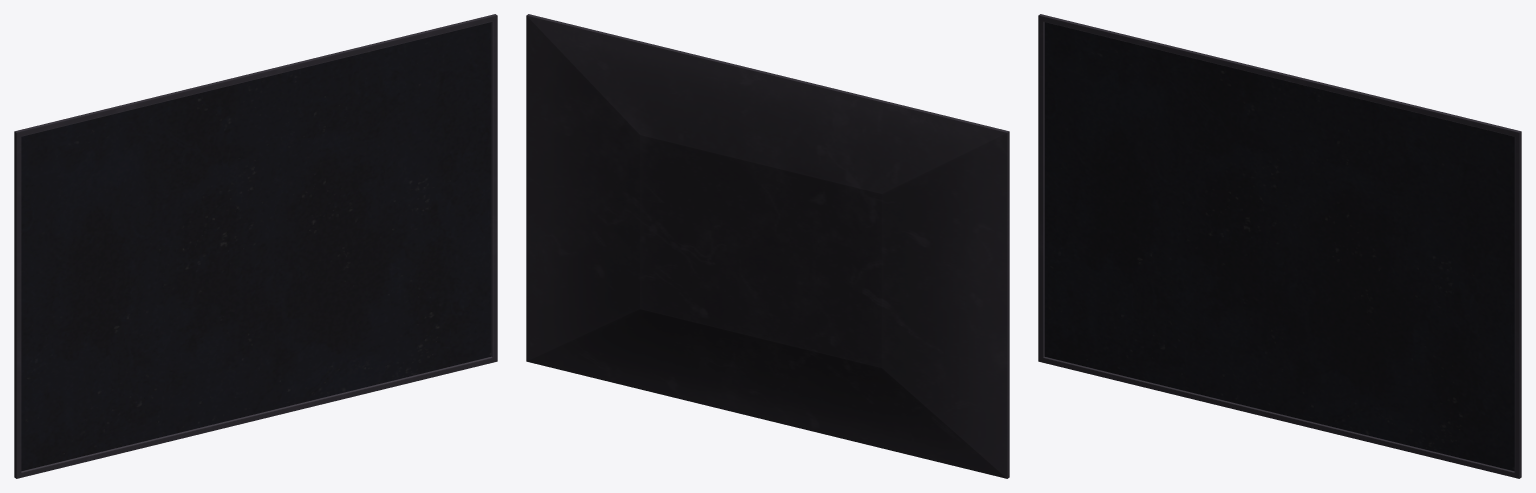
Rendered from Screen.fbx.
3 views of the same model, side by side, from view 1: azimuth 30°, elevation 25°; view 2: azimuth 150°, elevation 25°; view 3: azimuth 330°, elevation 25° (orthographic).
Visible parts, largest first — view 1: screen, body; view 2: body; view 3: screen, body.
Part boxes in pixels (box(x1,y1,x2,y2)): screen: box(21, 22, 491, 471); body: box(14, 14, 497, 478); body: box(526, 14, 1009, 478); screen: box(1044, 22, 1514, 471); body: box(1038, 14, 1521, 478).
Bounding box in the file's own units: 80 × 55 × 2.3.
2 materials, 2 textured.
